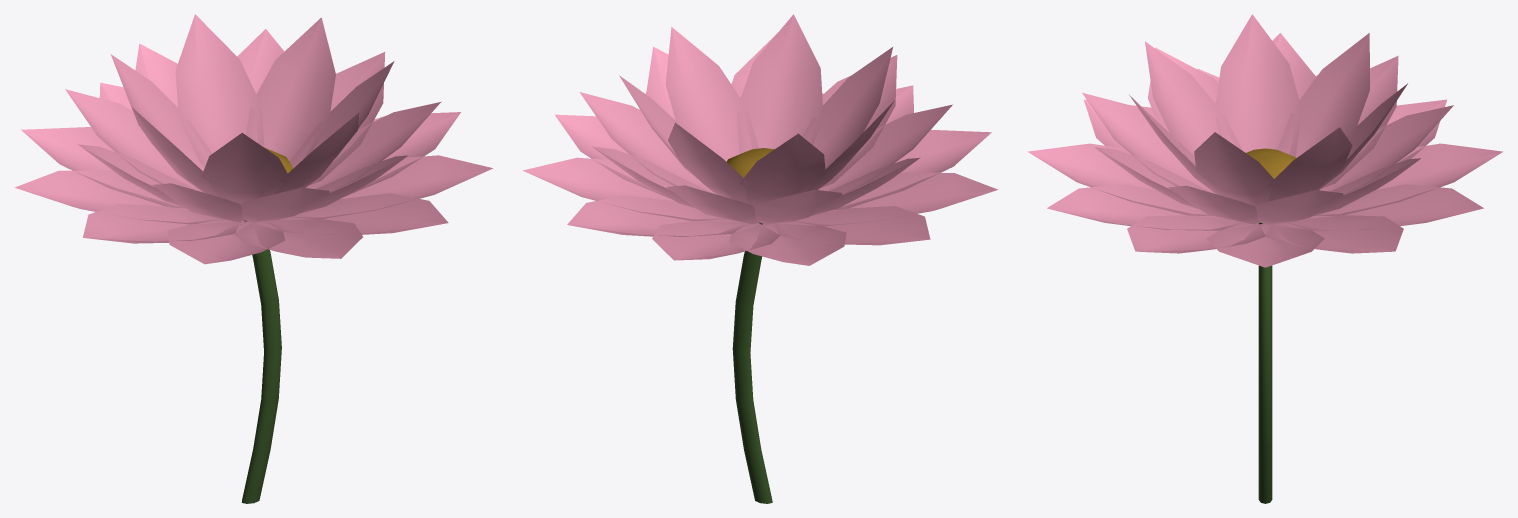
Rendered from CP03-B01-pink-bloom.glb.
The picture shows the model from 3 angles, left to right: view 1: azimuth 30°, elevation 25°; view 2: azimuth 150°, elevation 25°; view 3: azimuth 270°, elevation 25°; orthographic projection.
Parts seen in each view (by area): view 1: CP03-B01-pink-bloom; view 2: CP03-B01-pink-bloom; view 3: CP03-B01-pink-bloom.
Part boxes in pixels (x1,y1,x2,y2): CP03-B01-pink-bloom: (14, 14, 492, 503); CP03-B01-pink-bloom: (523, 14, 997, 503); CP03-B01-pink-bloom: (1028, 14, 1502, 503).
Size of the model in its own units: 0.8328 by 0.828 by 0.8413.
1 material, 1 textured.
